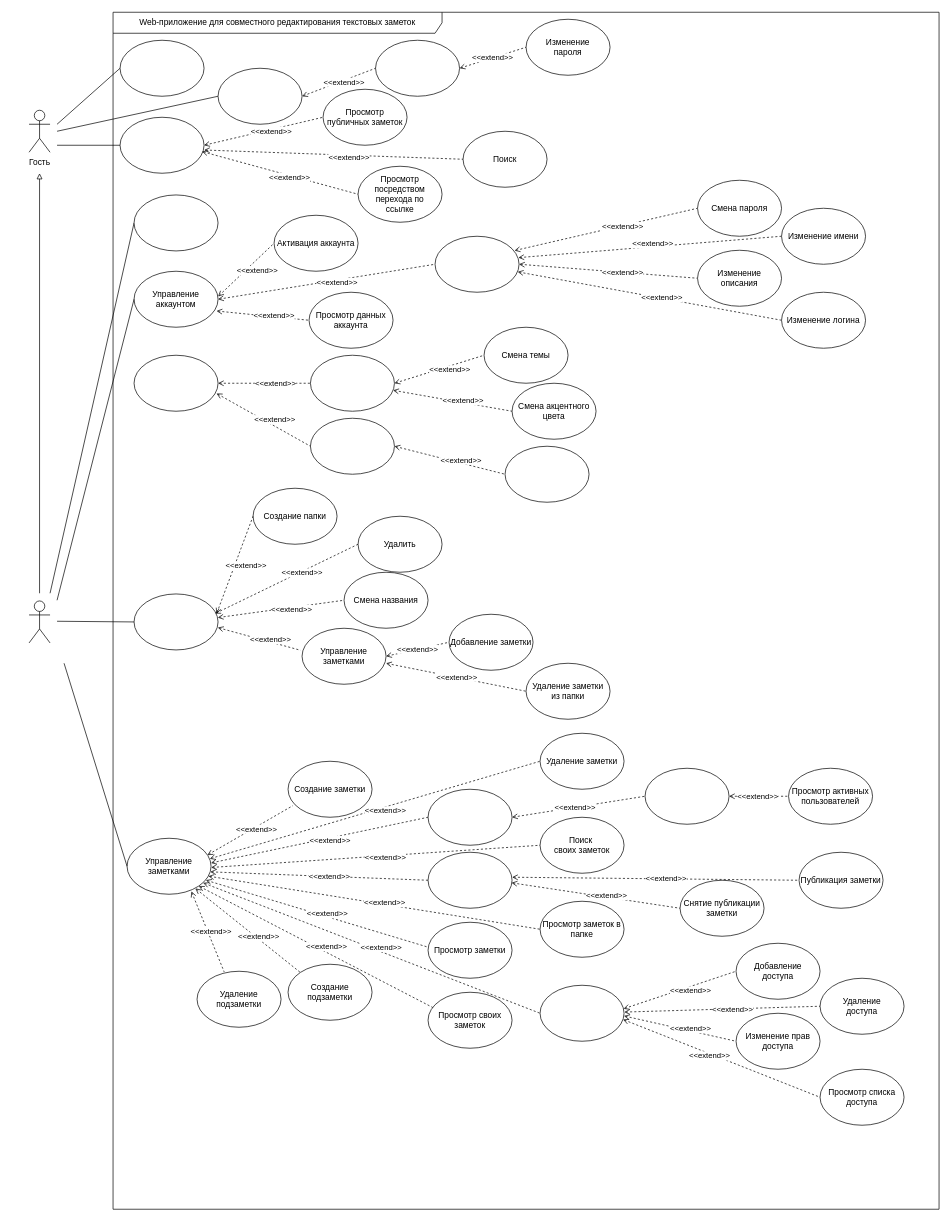
Some shapes in this 951 by 1222 pixel diagram are drawn without their labels. Each missing label, with the centre of its shape:
"Авторизация" belongs at point (259, 96).
"Выход из системы" belongs at point (175, 222).
"Запрос на восстановление пароля" belongs at point (417, 68).
"Конфигурация приложения" belongs at point (352, 446).
"Н астройка горячих клавиш" belongs at point (546, 474).
"Настройка внешнего вида" belongs at point (352, 383).
"Настройки приложения" belongs at point (175, 383).
"Пользователь" belongs at point (39, 621).
"Просмотр заметок" belongs at point (161, 145).
"Регистрация" belongs at point (161, 68).
"Редактирование данных аккаунта" belongs at point (476, 264).
"Редактирование заметки" belongs at point (469, 817).
"Совместное редактирование" belongs at point (686, 796).
"Управление доступом" belongs at point (581, 1013).
"Управление папками" belongs at point (175, 621).
"Управление публичными заметками" belongs at point (469, 880).
